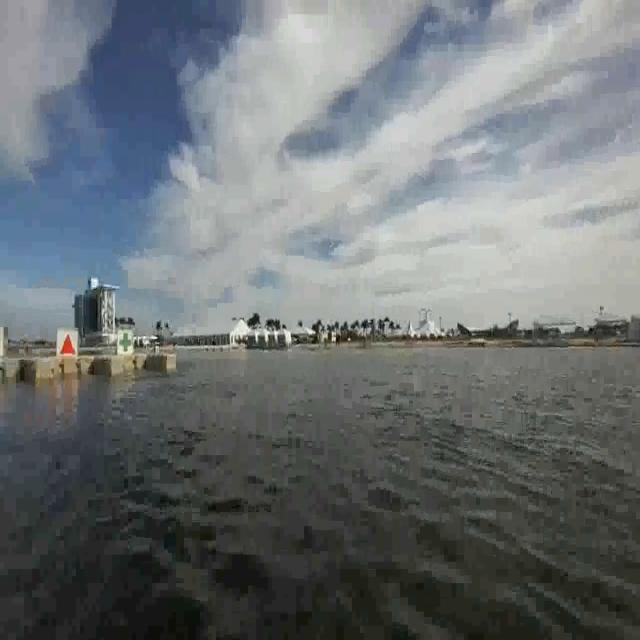blue-cross: (117, 330, 134, 358)
red-dot: (59, 329, 77, 359)
